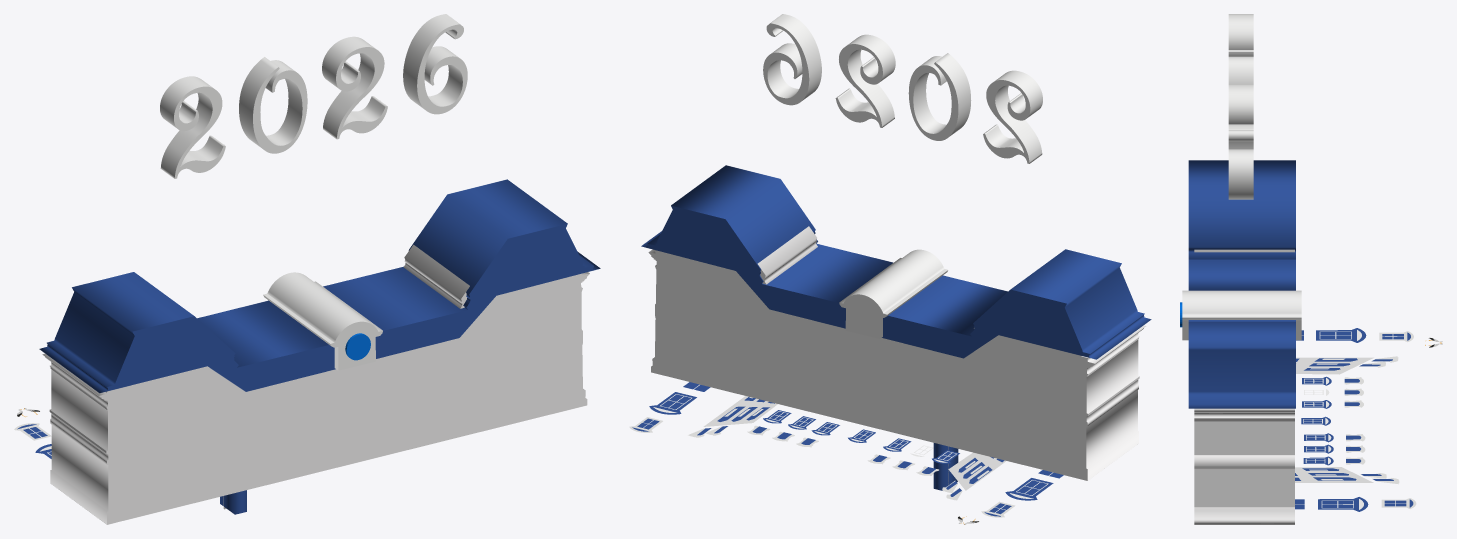
The picture shows the model from 3 angles, left to right: view 1: azimuth 30°, elevation 25°; view 2: azimuth 150°, elevation 25°; view 3: azimuth 270°, elevation 25°; orthographic projection. The views are drawn at different scales.
Visible parts, largest first — view 1: batiment blanc, Curve.520; view 2: batiment blanc, Curve.520, Curve.433, Curve.434, Curve.297; view 3: batiment blanc, Curve.520, Curve.434, Curve.433, Curve.370, Curve.361.
Boxes of the visible parts, x1,y1,x2,y2 form: batiment blanc: [39, 179, 600, 524]; Curve.520: [160, 14, 467, 178]; batiment blanc: [641, 165, 1151, 480]; Curve.520: [763, 14, 1042, 163]; Curve.433: [703, 396, 777, 426]; Curve.434: [948, 452, 1005, 490]; Curve.297: [933, 443, 958, 490]; batiment blanc: [1180, 160, 1301, 524]; Curve.520: [1228, 14, 1253, 199]; Curve.434: [1296, 357, 1373, 374]; Curve.433: [1295, 467, 1373, 482]; Curve.370: [1316, 328, 1366, 342]; Curve.361: [1318, 497, 1368, 511].
Size of what is drawn, in the model's own units: 2.07 by 1.79 by 1.06.
